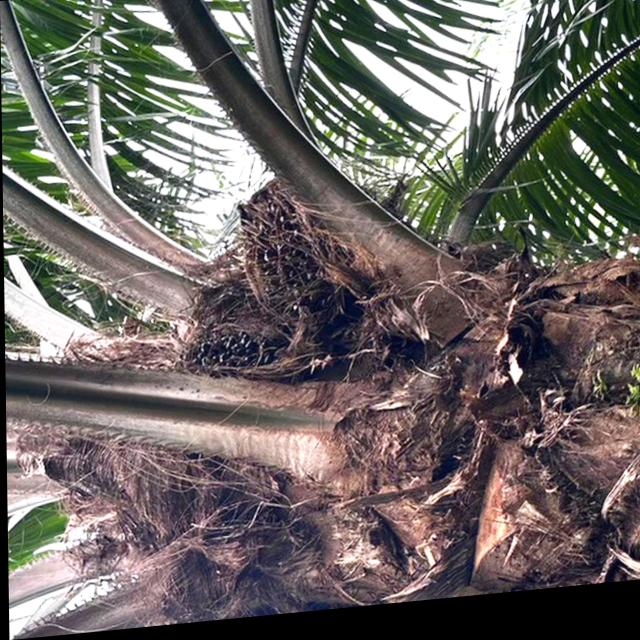ripe: (228, 167, 362, 346)
